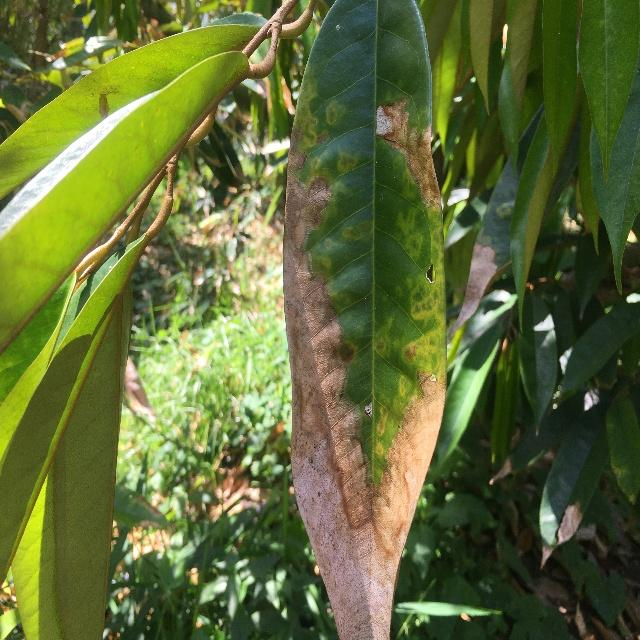Leaf Blight: (275, 0, 457, 640)
